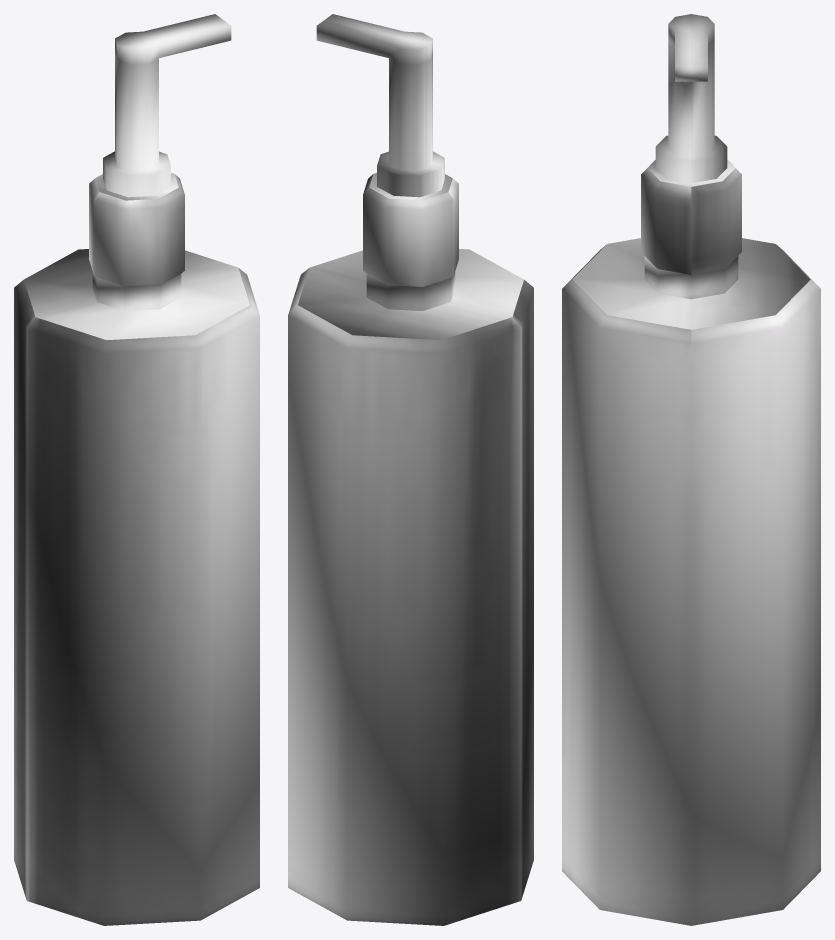
The model's file is lotion_bottle.FBX.
The picture shows the model from 3 angles, left to right: view 1: azimuth 30°, elevation 25°; view 2: azimuth 150°, elevation 25°; view 3: azimuth 270°, elevation 25°; orthographic projection.
Parts seen in each view (by area): view 1: lotion_bottle; view 2: lotion_bottle; view 3: lotion_bottle.
Boxes of the visible parts, x1=… form: lotion_bottle: x1=14, y1=14, x2=259, y2=925; lotion_bottle: x1=288, y1=14, x2=533, y2=925; lotion_bottle: x1=562, y1=14, x2=820, y2=925.
Bounding box in the file's own units: 8.43 × 30.44 × 8.43.
